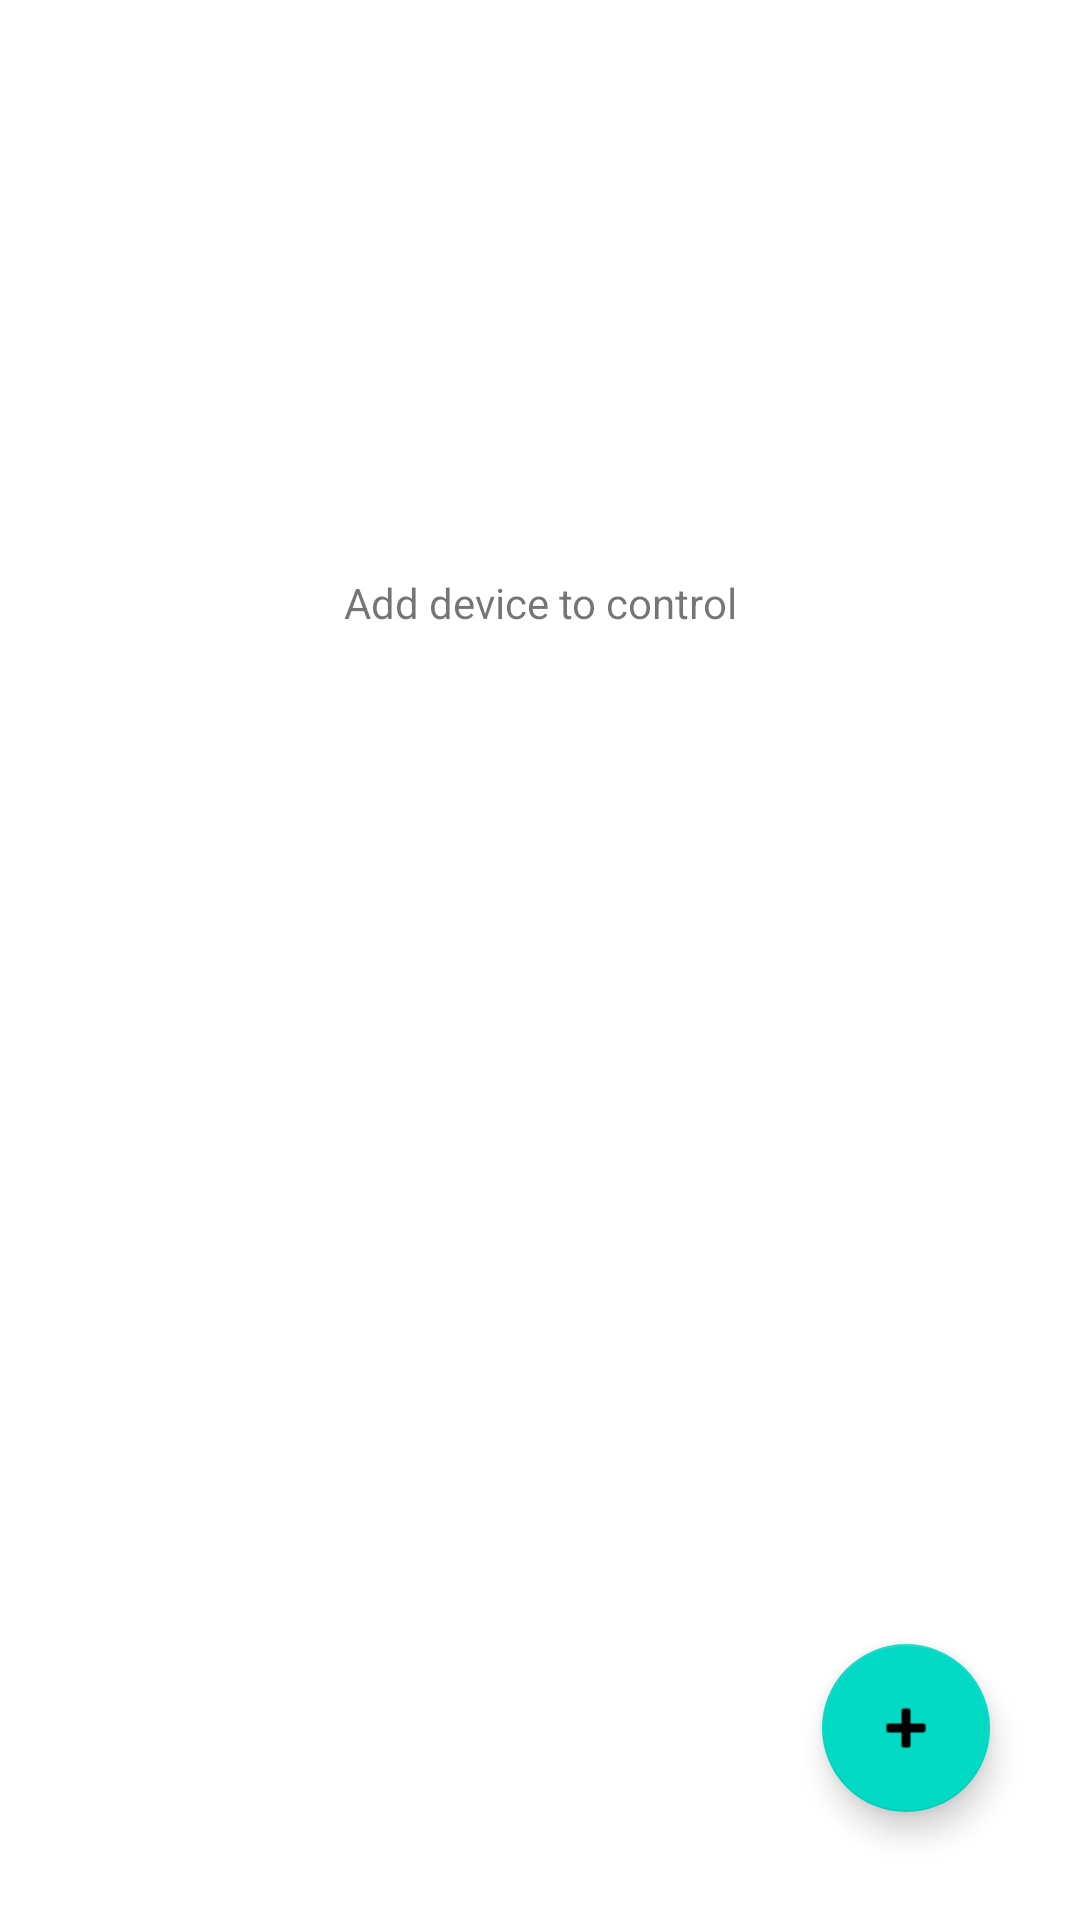

Named icons in this screenshot (1080px x 1920px) and their bounding boxes, bbox(x1, y1, x2, y2):
add: bbox(822, 1644, 990, 1812)
